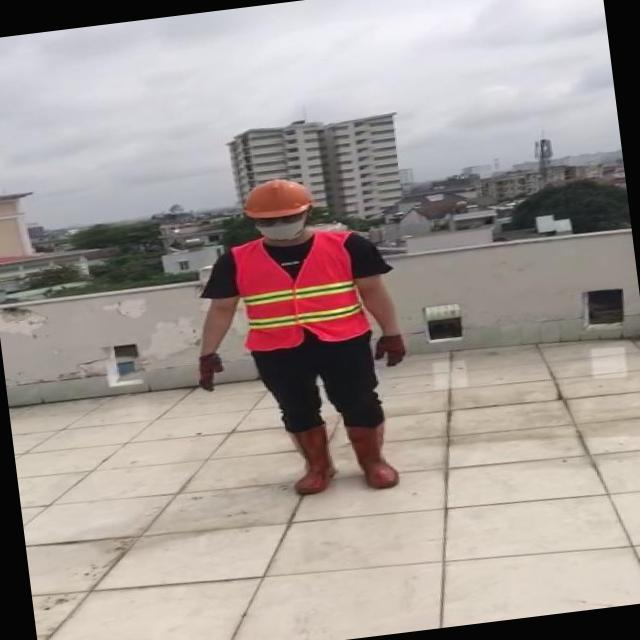boots: (346, 418, 404, 492), (284, 421, 338, 496)
helmet: (236, 174, 319, 222)
vest: (234, 227, 370, 352)
